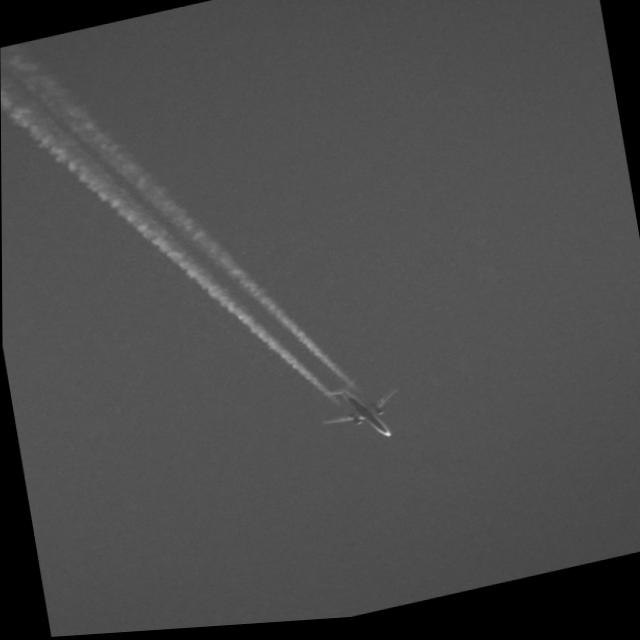aeroplane: (310, 373, 412, 456)
